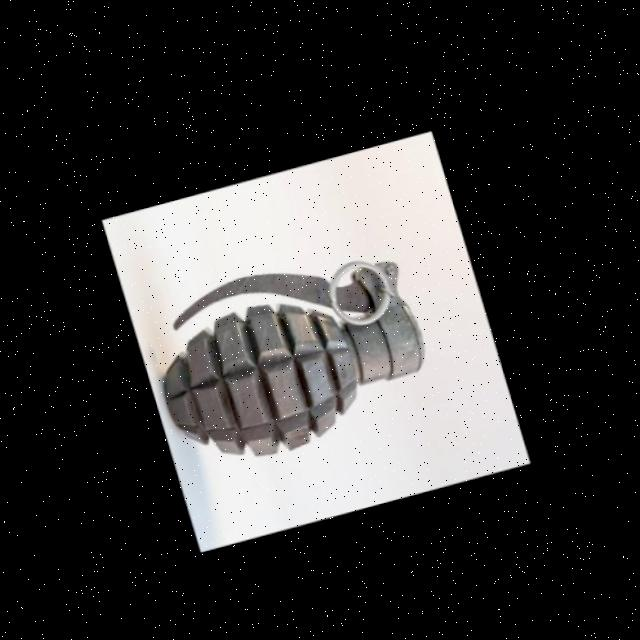grenade: (130, 227, 446, 488)
